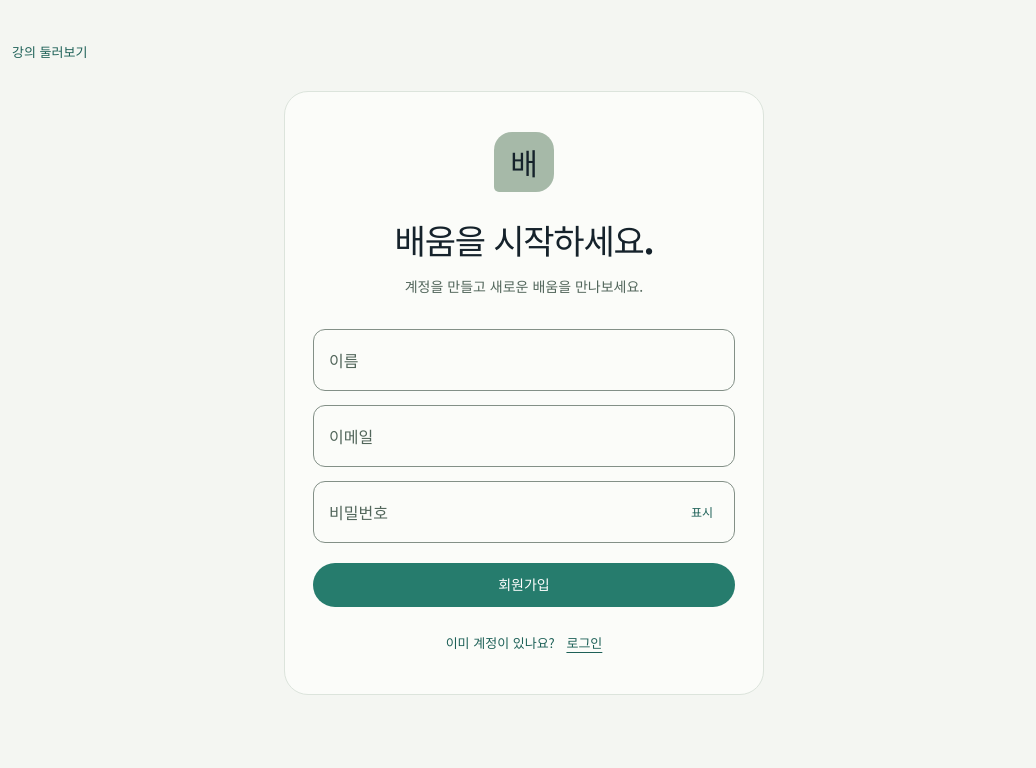
Test: signup account page › shows API errors and re-enables submission without changing route
The image size is (1036, 768).
Type "  학습자  " into the field with id "signup-name".
click(524, 360); type("  학습자  ")  # box [313,329,735,391]
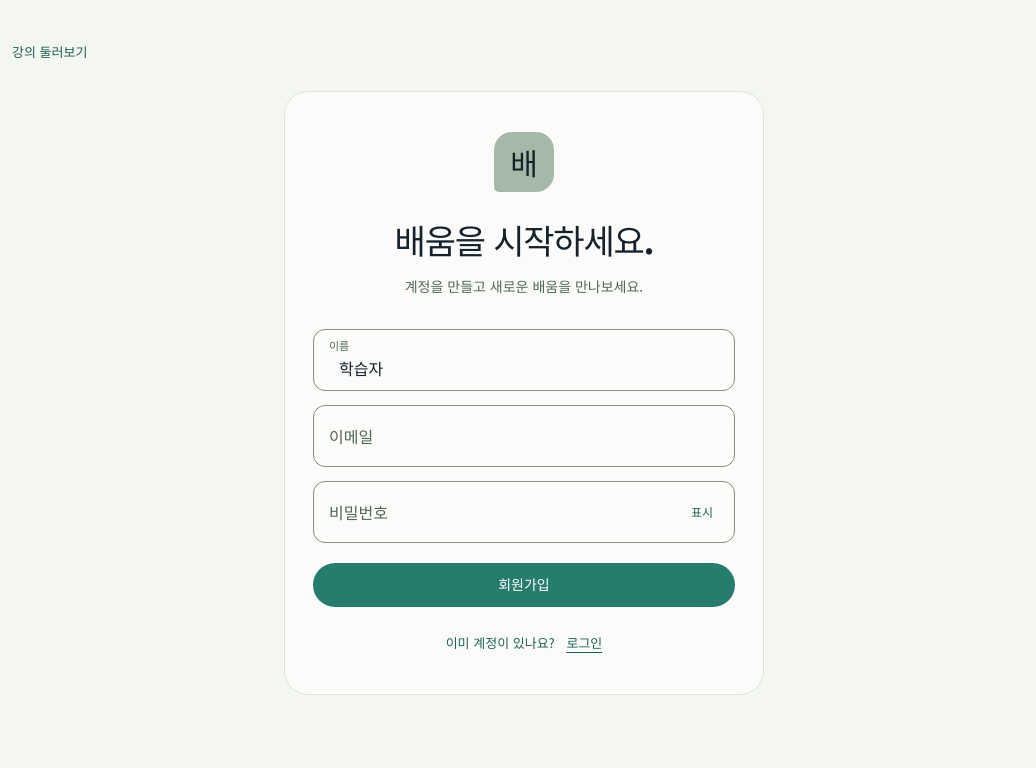
Type "reader@example.com" into the field with id "signup-email".
click(524, 436); type("reader@example.com")  # box [313,405,735,467]
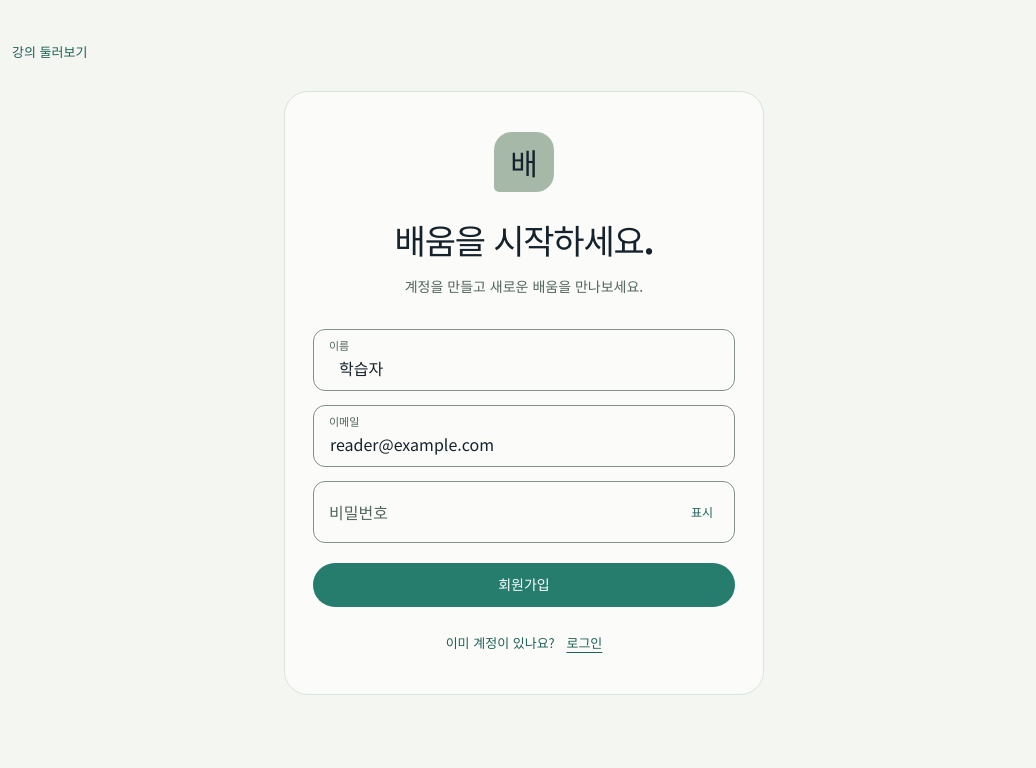
Type " secret " into the password field with id "signup-password".
click(524, 512); type(" secret ")  # box [313,481,735,543]
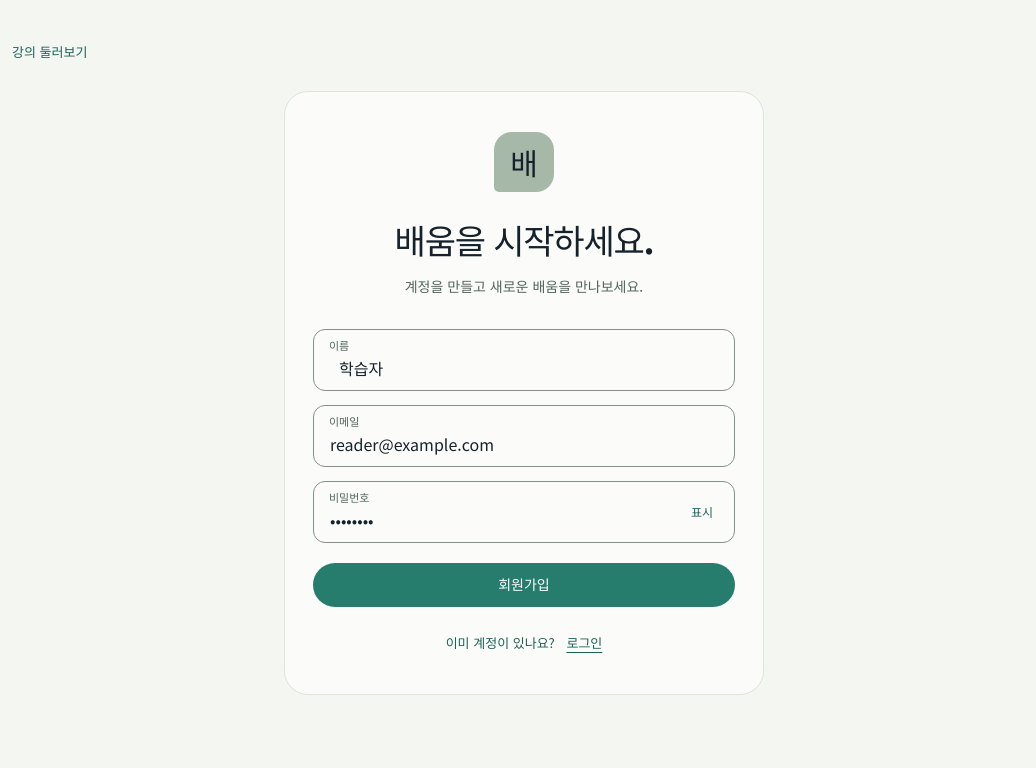
Submit the form, box [313,329,735,607]
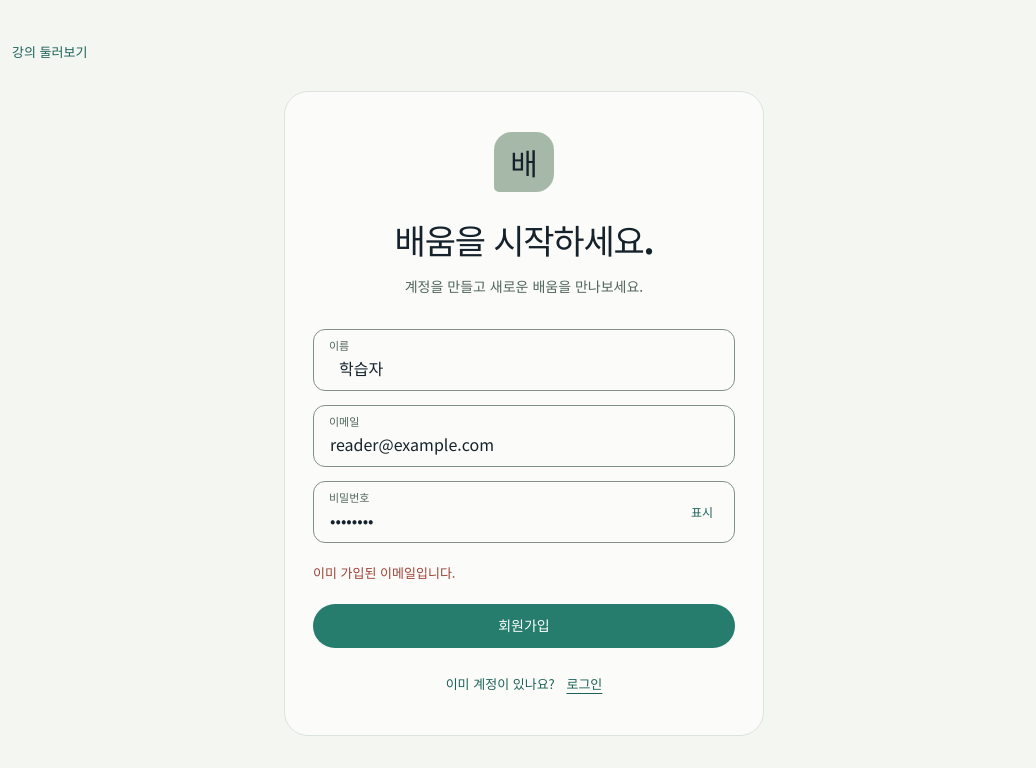
Expected: the submit button is enabled, [313,604,735,648]
Expected: the message "이미 가입된 이메일입니다." is shown, [313,563,456,582]
